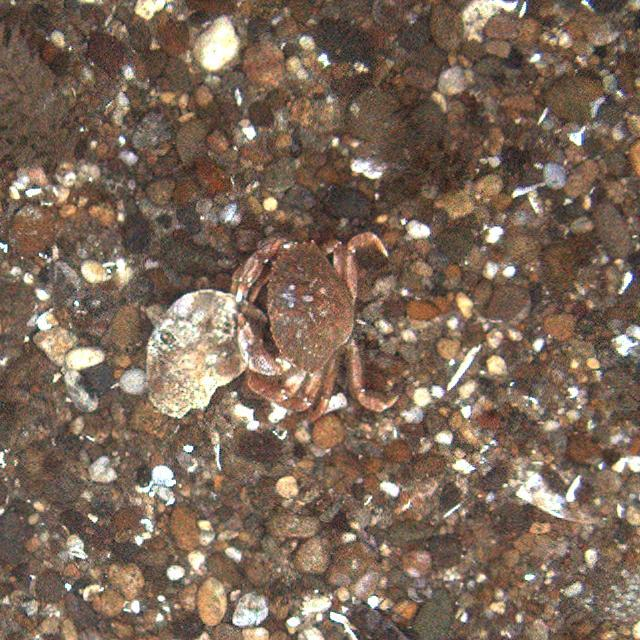crab: (232, 230, 407, 421)
